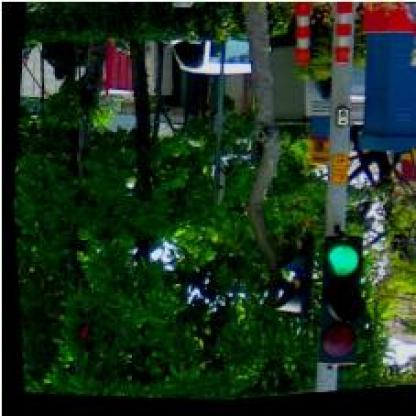green: (306, 237, 368, 375)
